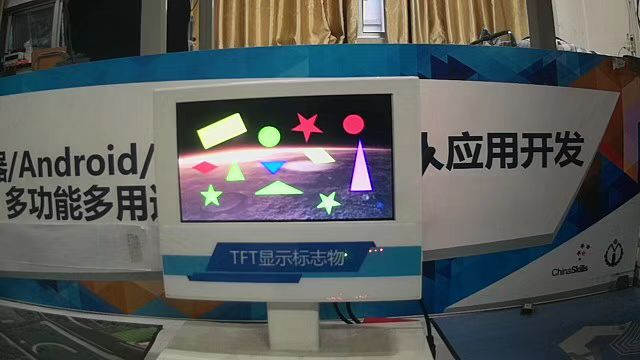graph: (173, 92, 402, 224)
